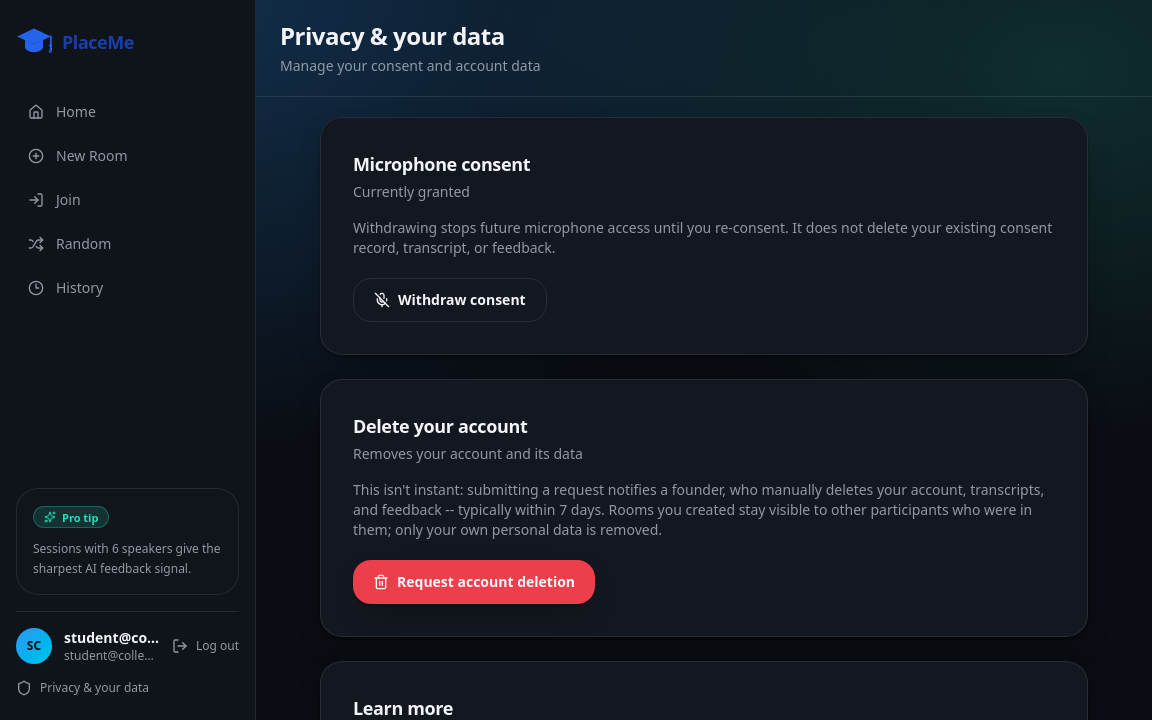
it: AccountPage — Privacy & your data › shows an error banner when withdrawal fails, without claiming success
The image size is (1152, 720).
Step 1. Click the button "Withdraw consent" → (450, 300), box [353,278,547,322]
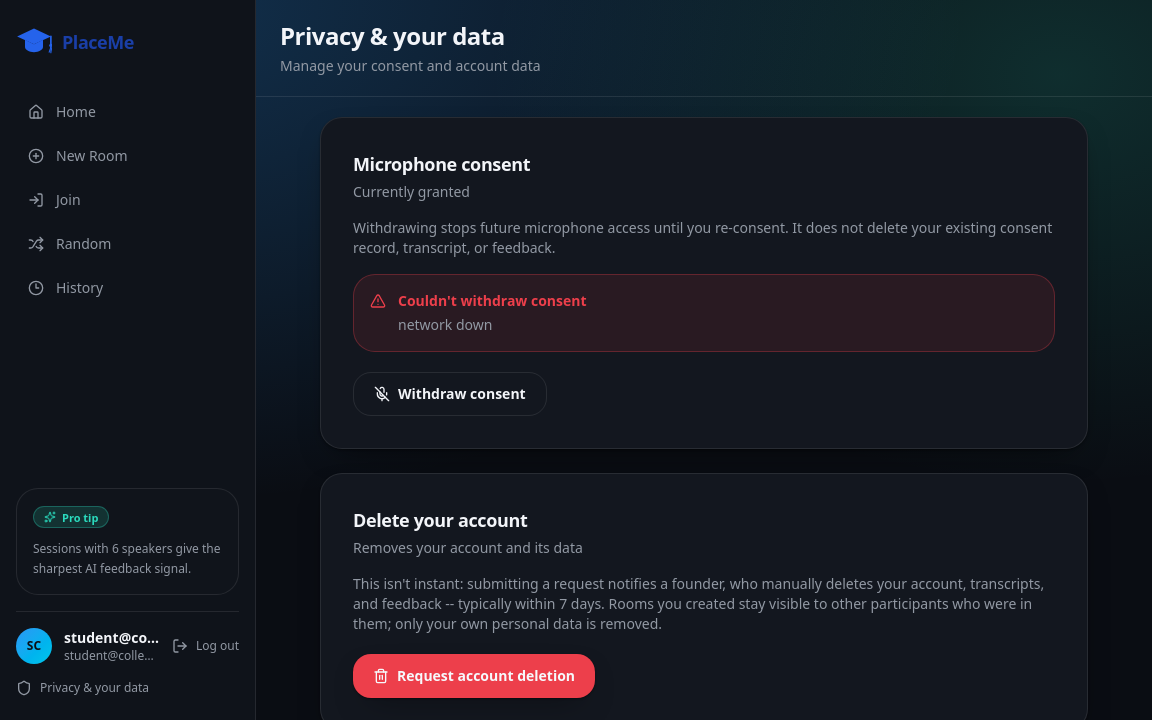
Expected: the text "Couldn't withdraw consent" is shown, [398,291,586,310]
Expected: the text "network down" is shown, [398,315,492,334]
